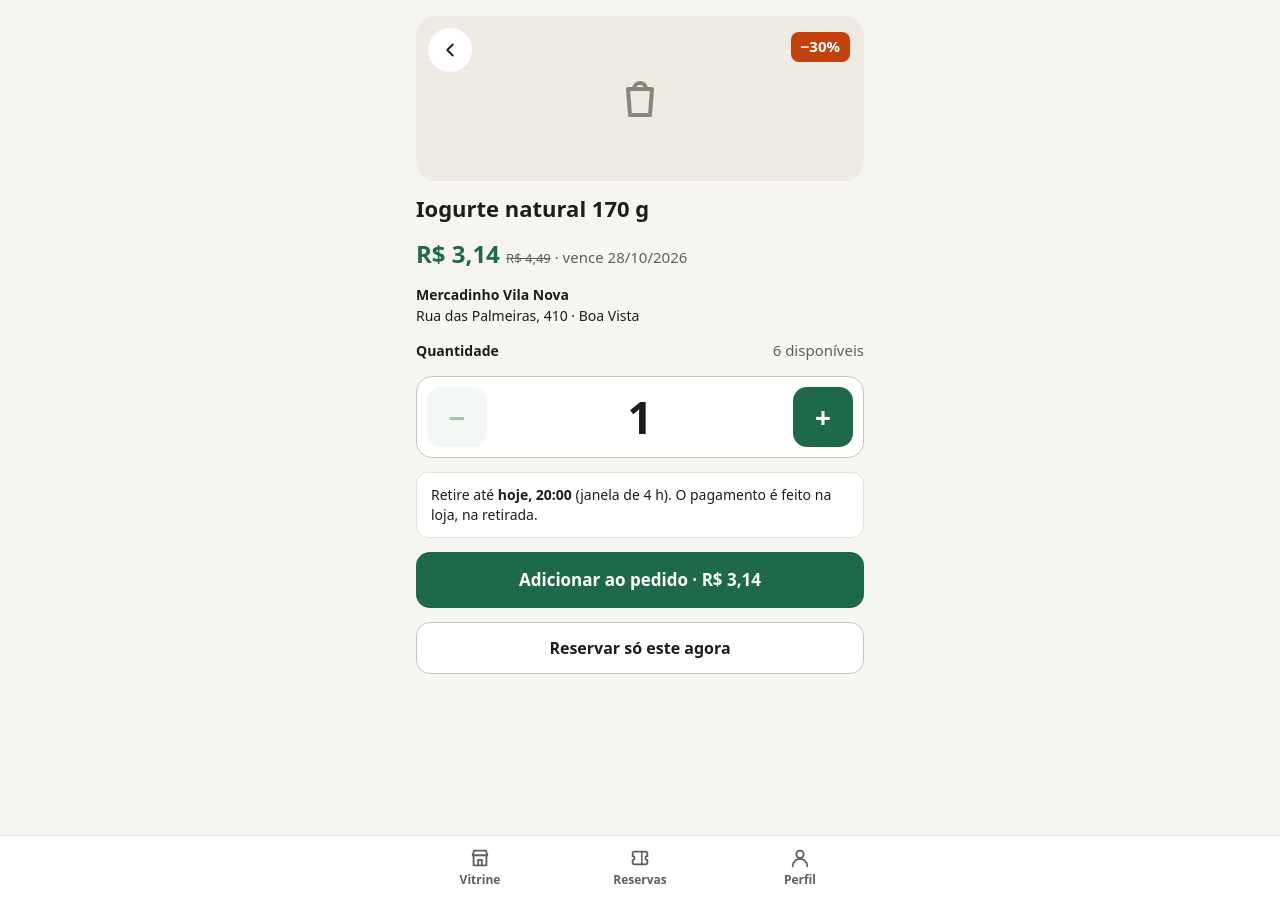
C4 · Quantidade: adicionar ao pedido ou reservar só este › "Reservar só este agora": pedido de 1 item, direto na C5
Click the button "Reservar só este agora".
click(640, 648)  # box [416, 622, 864, 674]
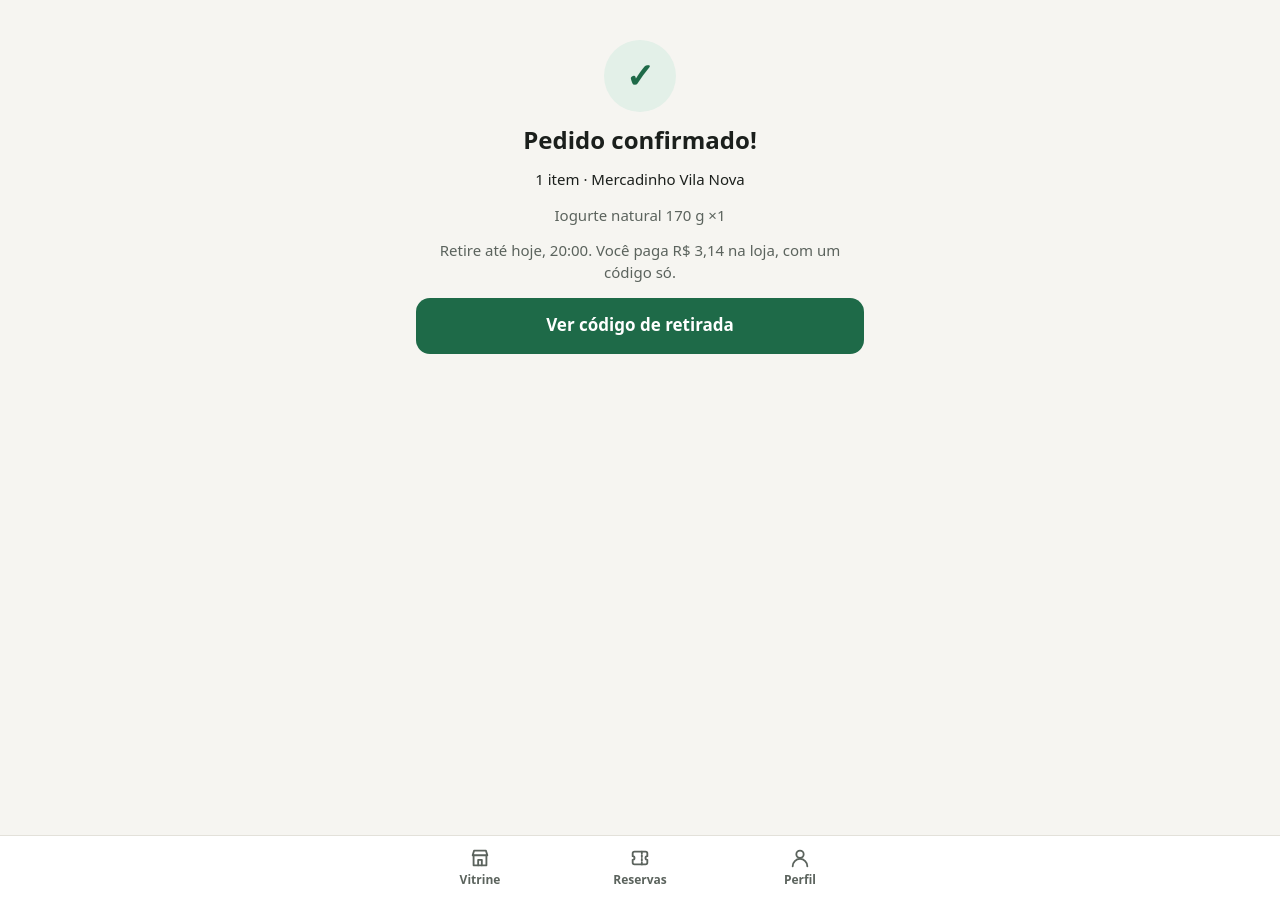
expect the heading "Pedido confirmado!" is shown: met, box [523, 123, 757, 156]
expect the text "Retire até hoje, 20:00. Você paga R$ 3,14 na loja, com um código só." is shown: met, box [416, 240, 864, 284]
